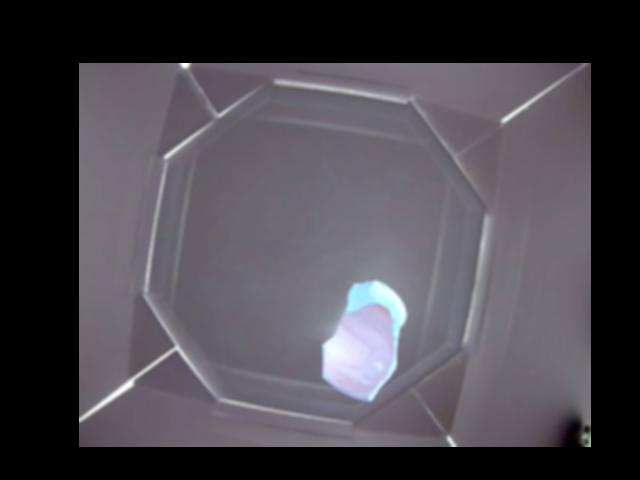China: (321, 278, 411, 403)
